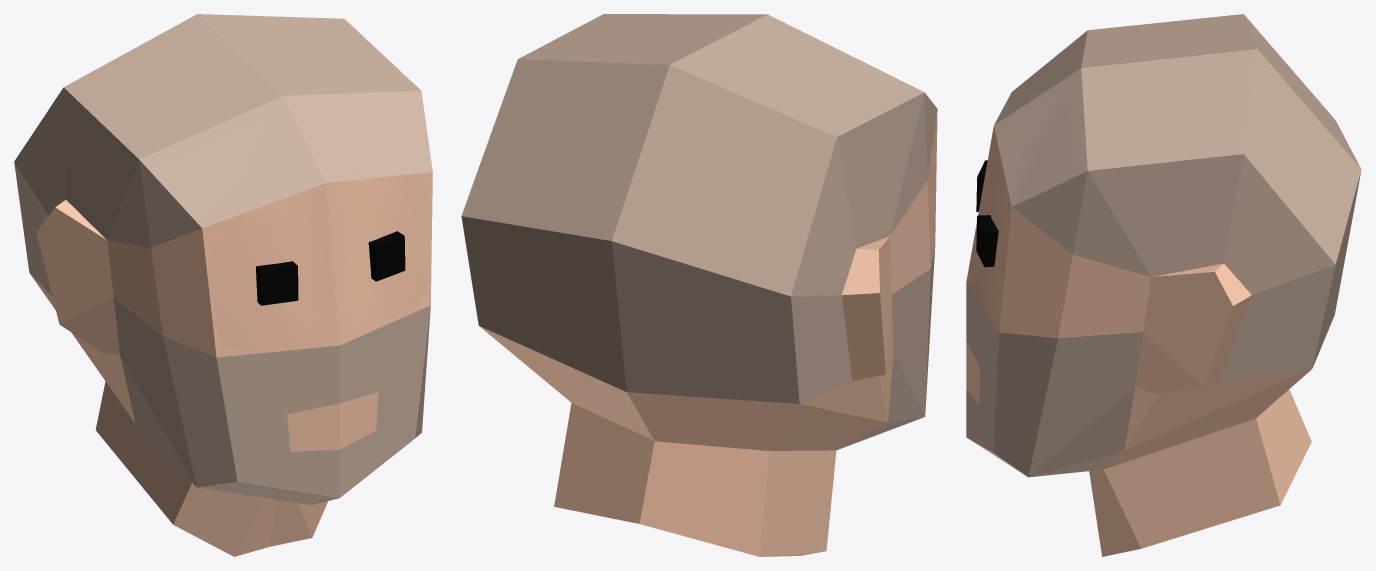
File: Chr_Head_Male_13_Static.fbx
3 views of the same model, side by side, from view 1: azimuth 30°, elevation 25°; view 2: azimuth 150°, elevation 25°; view 3: azimuth 270°, elevation 25° (orthographic). The views are drawn at different scales.
Parts seen in each view (by area): view 1: Chr_Head_Male_13_Static; view 2: Chr_Head_Male_13_Static; view 3: Chr_Head_Male_13_Static.
Part boxes in pixels (x1,y1,x2,y2): Chr_Head_Male_13_Static: (14, 14, 432, 556); Chr_Head_Male_13_Static: (461, 14, 937, 556); Chr_Head_Male_13_Static: (966, 14, 1361, 556).
Bounding box in the file's own units: 0.2661 × 0.3523 × 0.2574.
